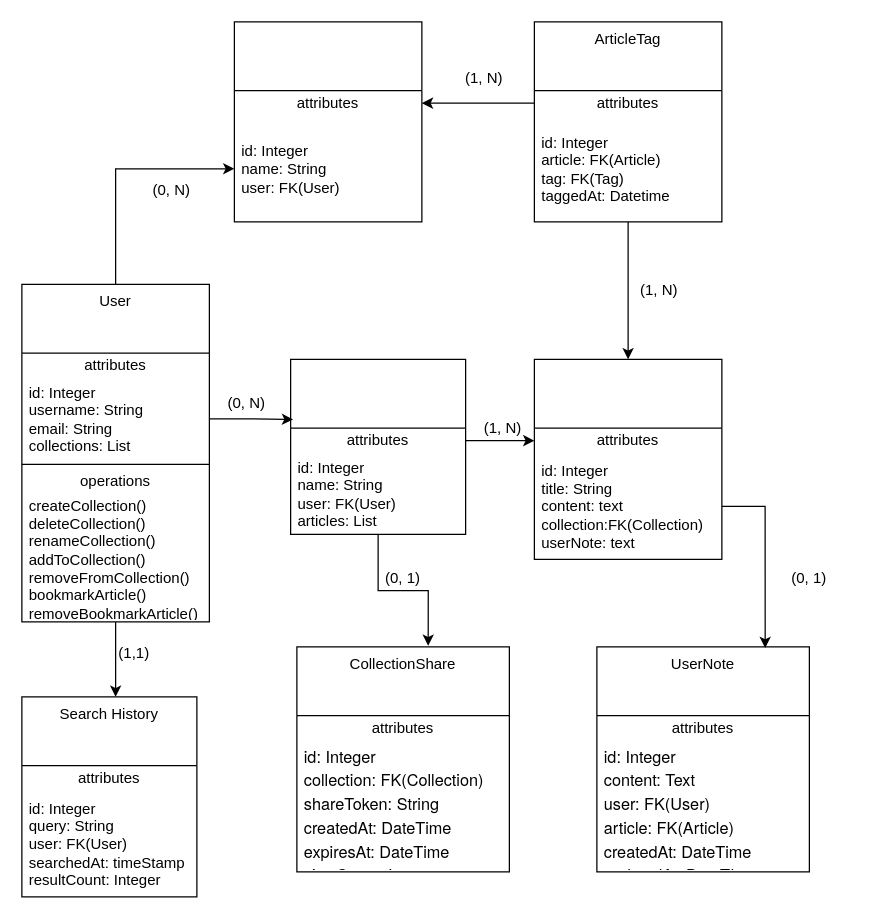
The diagram is 869 pixels wide and 919 high, and some of its shapes have lost their labels. Here are the shapes that lost their labels. From the top down, the box of each, then its label:
(233, 21, 422, 222): Tag
(289, 358, 466, 534): Collection
(533, 358, 722, 559): Article
